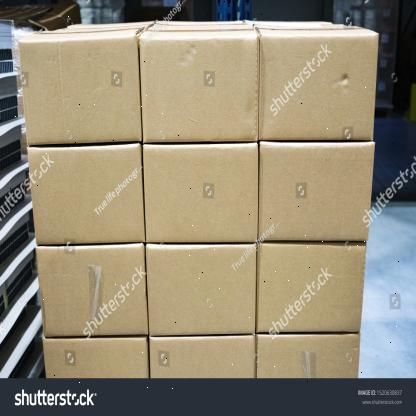box: (19, 33, 141, 143), (139, 37, 259, 142), (261, 34, 379, 140), (26, 146, 145, 244), (259, 143, 375, 241), (142, 146, 260, 242), (36, 245, 148, 338), (146, 243, 257, 335), (257, 243, 368, 332)
